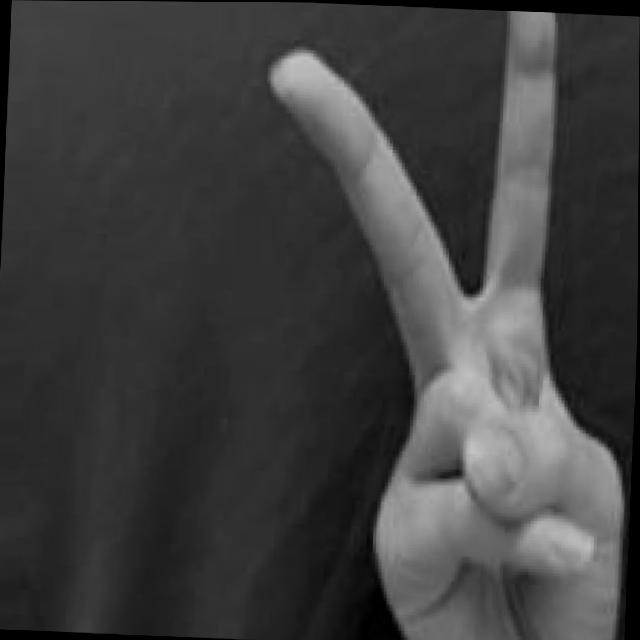V: (246, 2, 640, 640)
